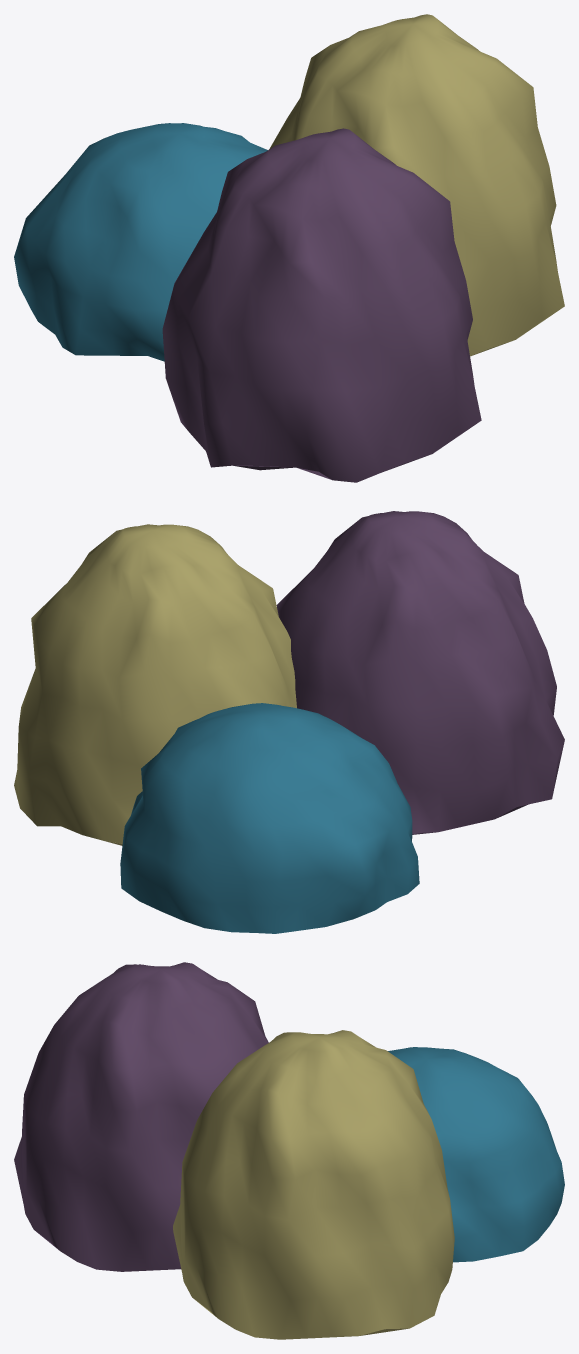
The model's file is rocas.fbx.
3 renders of one model, top to bottom at view 1: azimuth 30°, elevation 25°; view 2: azimuth 150°, elevation 25°; view 3: azimuth 270°, elevation 25°, orthographic. The views are drawn at different scales.
Parts seen in each view (by area): view 1: Sphere014, Sphere015, Sphere013; view 2: Sphere014, Sphere015, Sphere013; view 3: Sphere015, Sphere014, Sphere013.
Boxes of the visible parts, x1,y1,x2,y2 form: Sphere014: (162, 128, 481, 482); Sphere015: (269, 14, 564, 356); Sphere013: (14, 123, 267, 361); Sphere014: (276, 511, 564, 834); Sphere015: (14, 524, 296, 845); Sphere013: (120, 703, 419, 933); Sphere015: (173, 1030, 454, 1339); Sphere014: (14, 962, 268, 1271); Sphere013: (388, 1047, 564, 1262).
Bounding box in the file's own units: 33.54 × 39.51 × 20.58.
